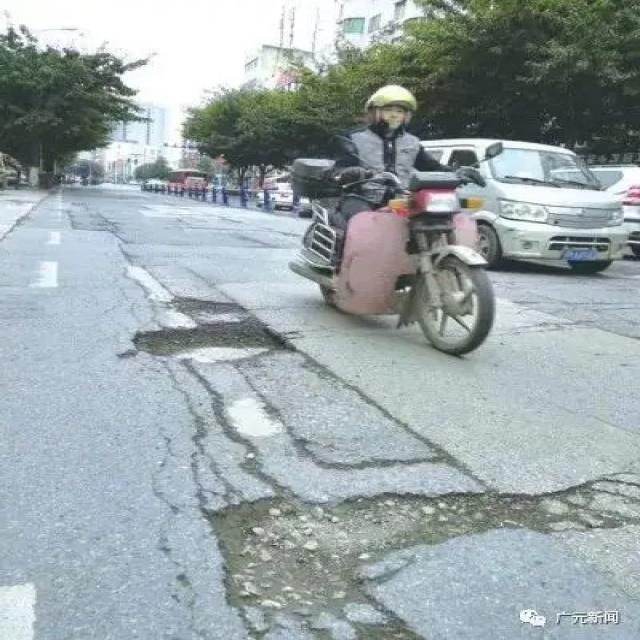Pothole: (184, 484, 638, 630), (126, 322, 296, 364), (163, 296, 254, 316)
